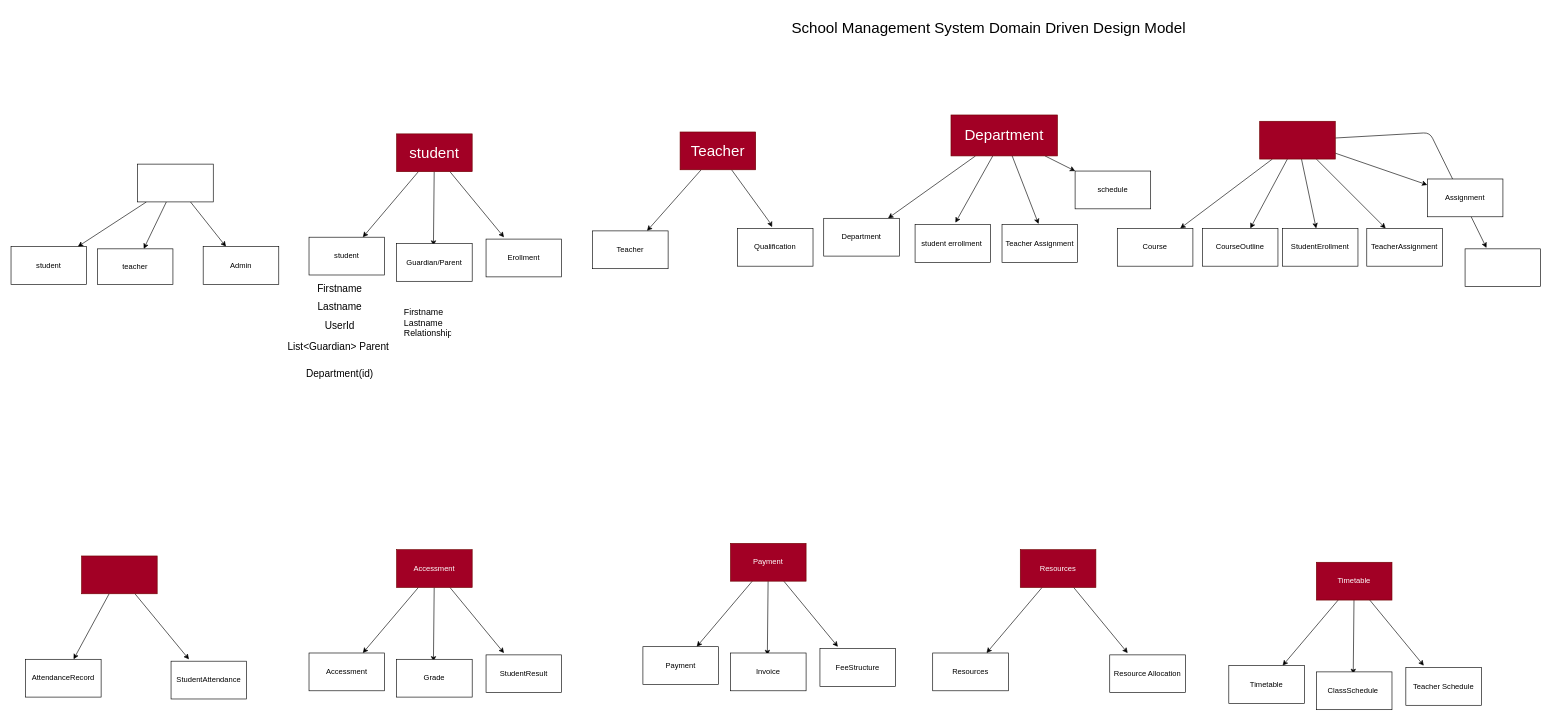
Some shapes in this 1552 by 721 pixel diagram are drawn without their labels. Each missing label, with the centre of its shape:
"Attendance" belongs at (119,574).
"Courses" belongs at (1297,140).
"User" belongs at (175,182).
